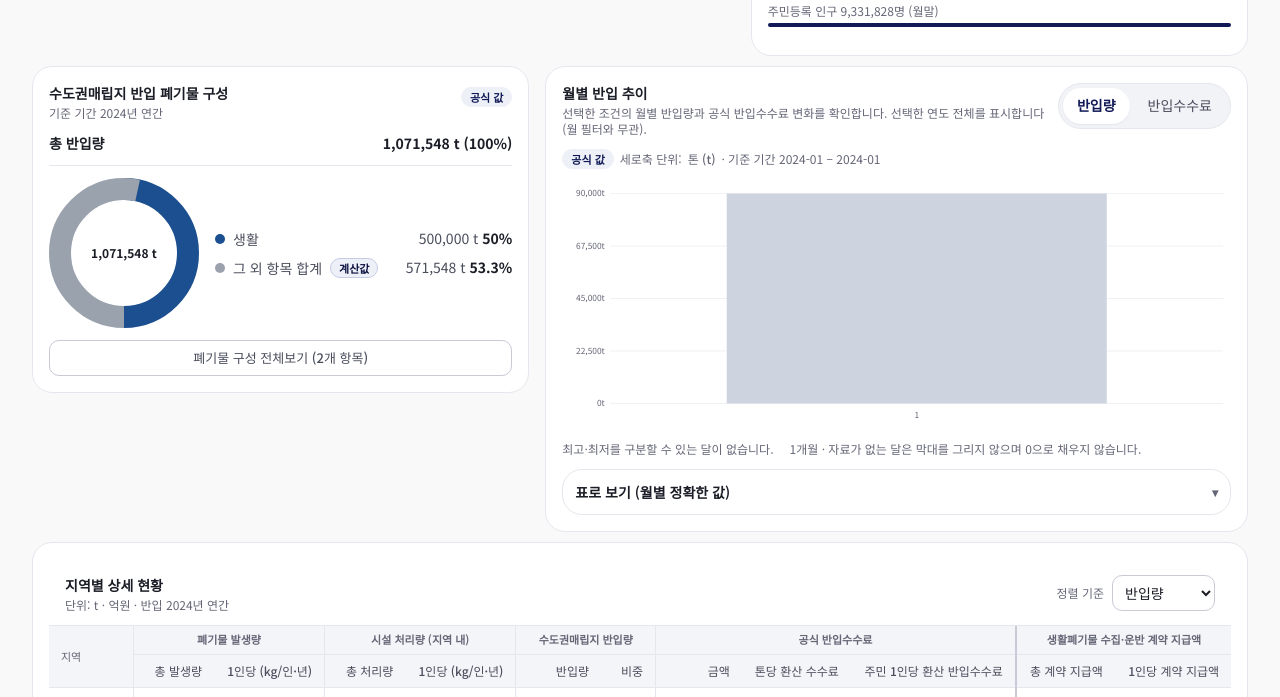
LandfillDashboard — Figma page 2 › opens the composition modal with the served taxonomy and a residual roll-up
(page scrolled)
Click the button with test id "landfill-composition-open". click: (281, 358)
box: [49, 340, 512, 376]
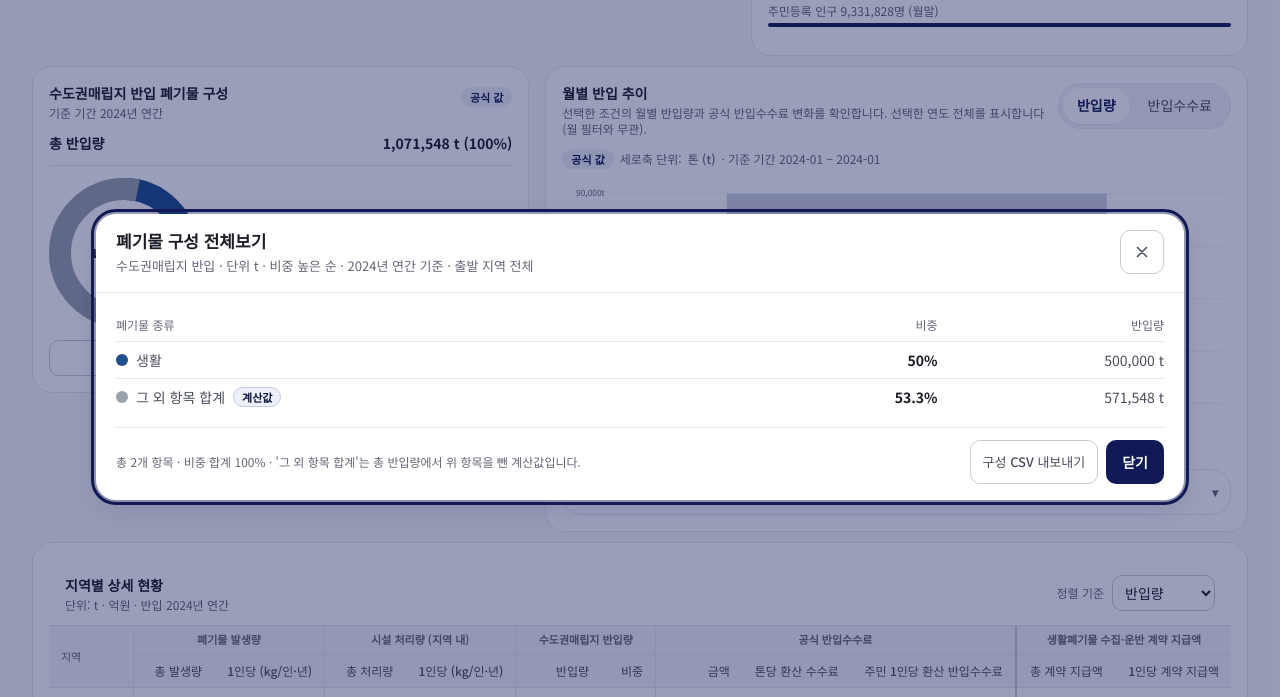
Expected: the number of rows with test id "landfill-composition-modal-row" is 2, [116, 342, 1164, 378]; [116, 378, 1164, 415]
Expected: the row with test id "landfill-composition-modal-row" shows "생활", [136, 350, 162, 370]
Expected: the row with test id "landfill-composition-modal-row" shows "그 외 항목 합계", [136, 387, 225, 407]
Click the button with test id "landfill-composition-modal-dismiss". click: (1135, 462)
box: [1106, 440, 1164, 484]
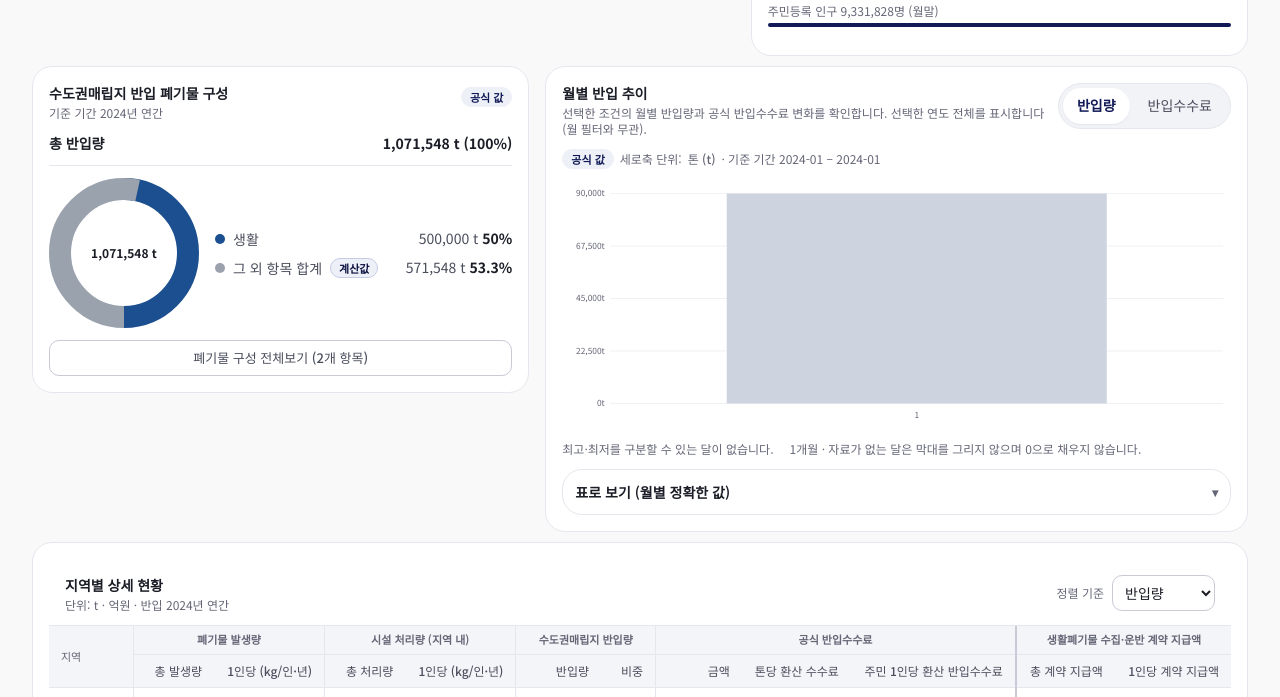
Expected: the dialog with test id "landfill-composition-modal" is gone
